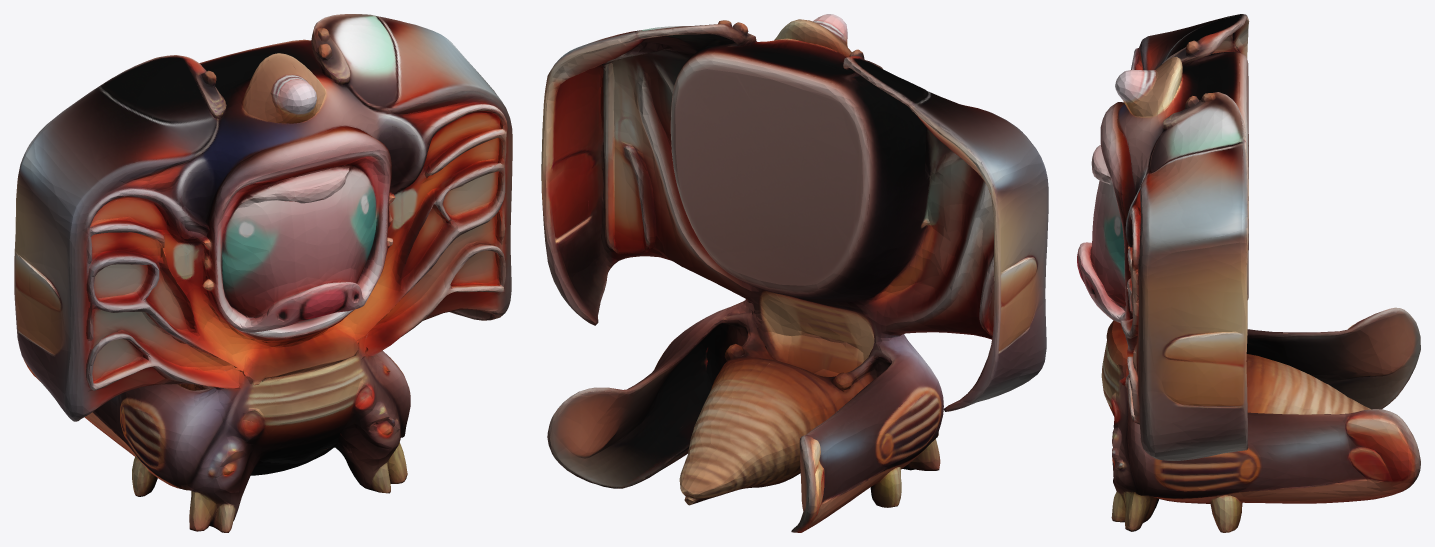
3 views of the same model, side by side, from view 1: azimuth 30°, elevation 25°; view 2: azimuth 150°, elevation 25°; view 3: azimuth 270°, elevation 25° (orthographic). The views are drawn at different scales.
Visible parts, largest first — view 1: world; view 2: world; view 3: world.
Boxes of the visible parts, x1=… form: world: x1=14, y1=14, x2=512, y2=532; world: x1=541, y1=14, x2=1048, y2=532; world: x1=1077, y1=14, x2=1420, y2=532.
Size of the model in its own units: 0.9999 by 0.9224 by 0.679.
Materials: 1 (1 with a texture image).
